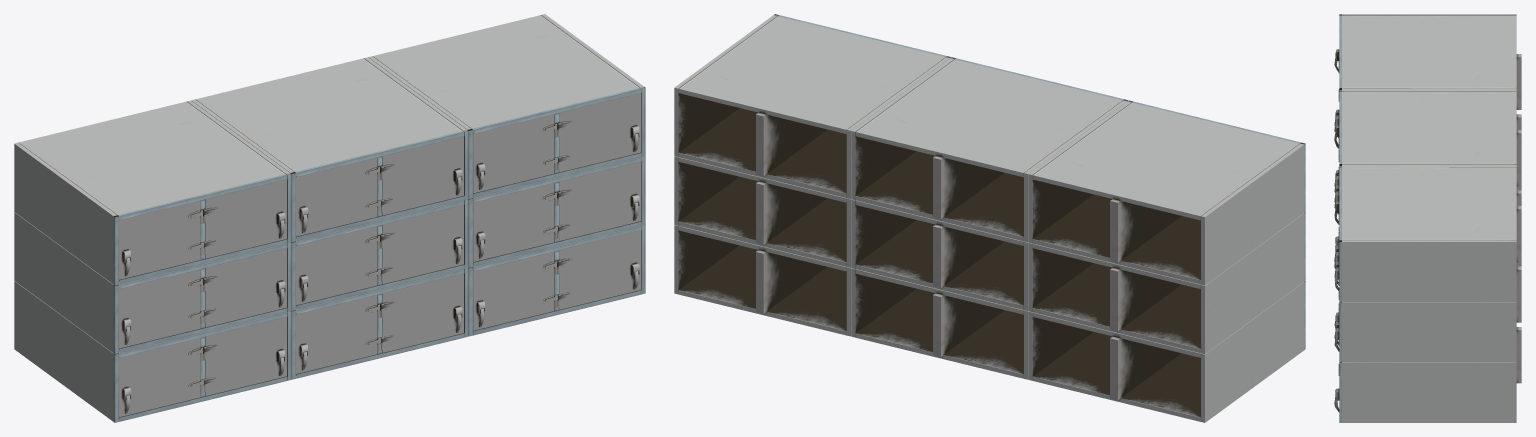
File: morgue_fridge.glb
The picture shows the model from 3 angles, left to right: view 1: azimuth 30°, elevation 25°; view 2: azimuth 150°, elevation 25°; view 3: azimuth 270°, elevation 25°; orthographic projection. The views are drawn at different scales.
Parts seen in each view (by area): view 1: Cloner_Mat_0, Cloner_Mat.1_0; view 2: Cloner_Mat_0, Cloner_Mat.1_0; view 3: Cloner_Mat_0, Cloner_Mat.1_0.
Boxes of the visible parts, x1,y1,x2,y2 form: Cloner_Mat_0: [14, 14, 645, 422]; Cloner_Mat.1_0: [119, 93, 641, 417]; Cloner_Mat_0: [674, 14, 1305, 422]; Cloner_Mat.1_0: [756, 112, 1181, 400]; Cloner_Mat_0: [1339, 14, 1516, 422]; Cloner_Mat.1_0: [1334, 49, 1521, 412].
Size of the model in its own units: 3.93 by 1.46 by 1.36.
2 materials, 2 textured.
